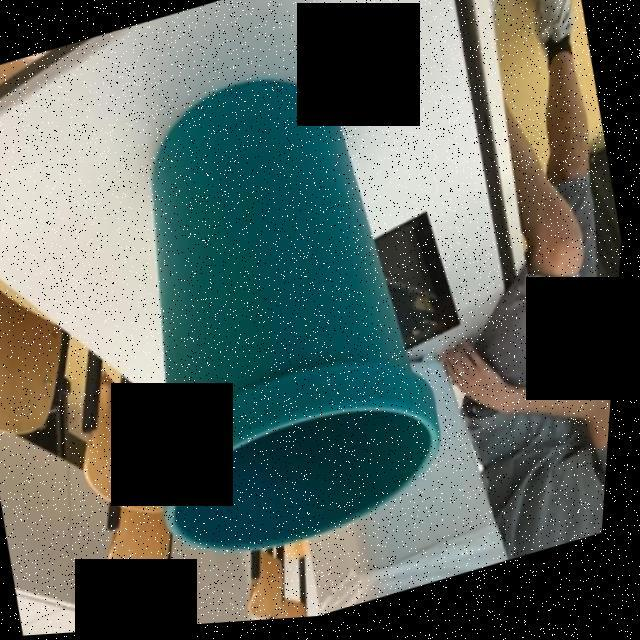bin: (34, 7, 502, 637)
